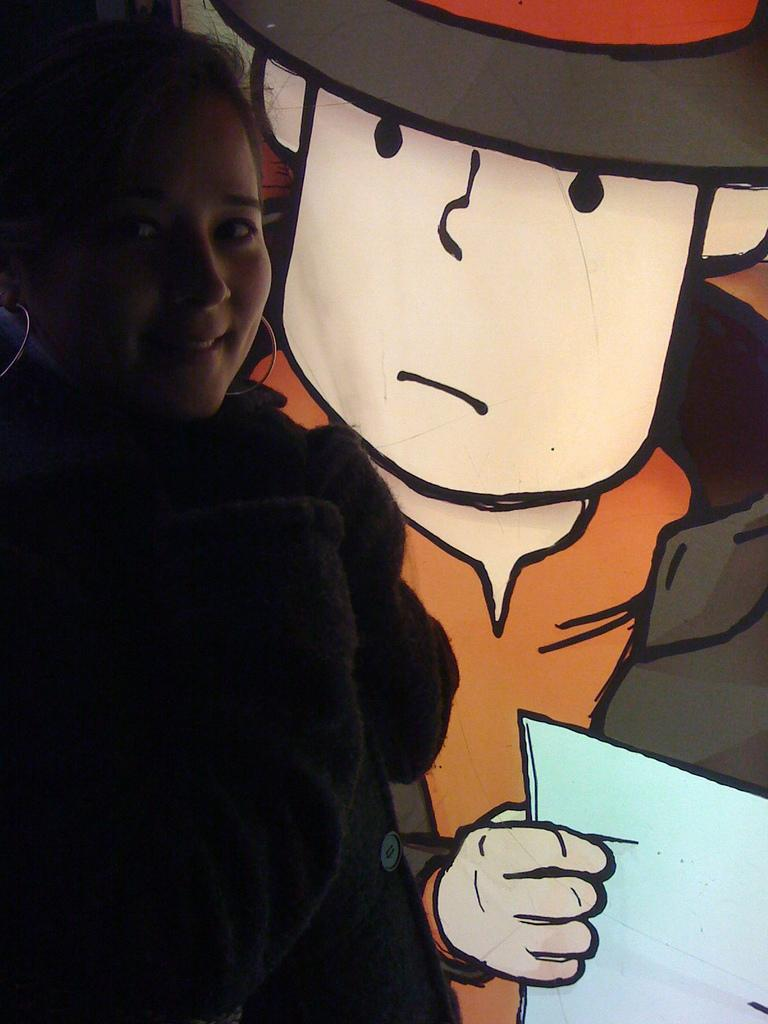Hat: (209, 0, 767, 186)
